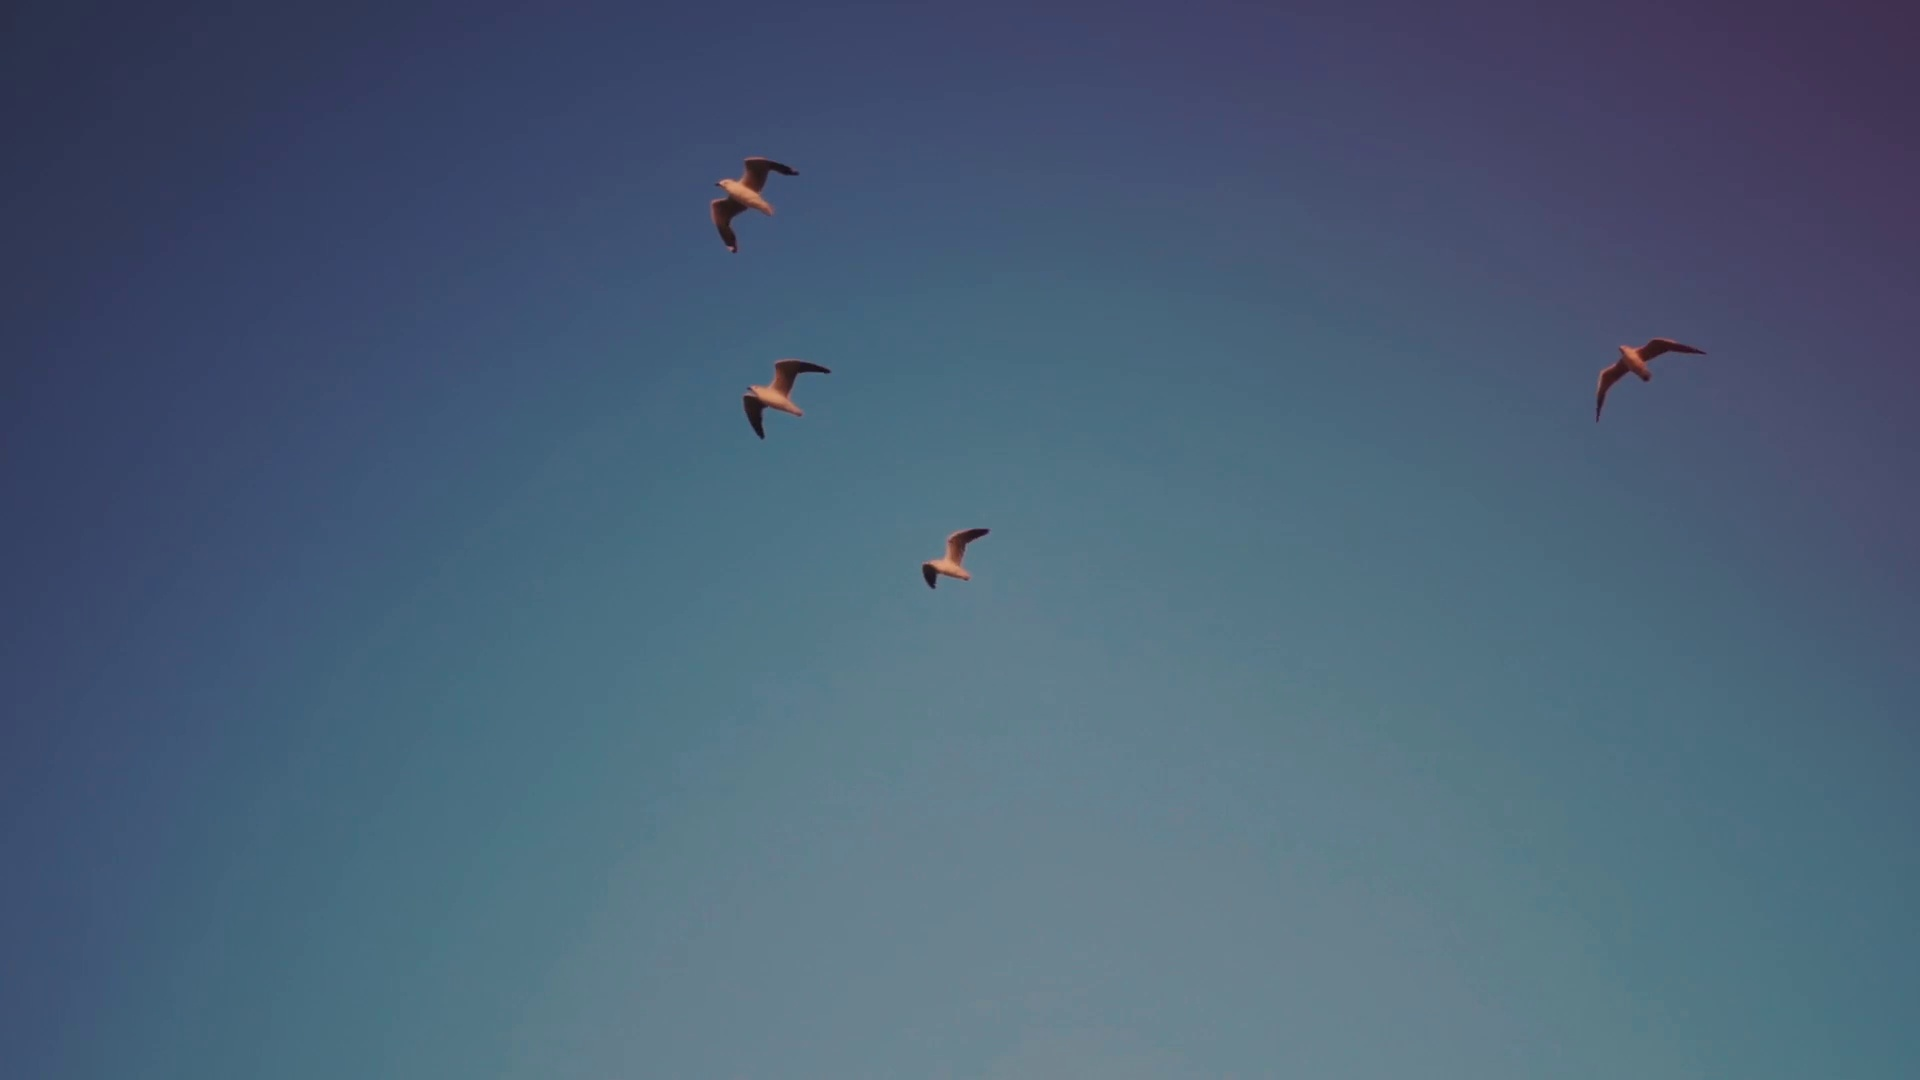bird: (1594, 338, 1710, 427), (713, 154, 800, 252), (742, 357, 831, 438), (920, 524, 986, 585)
